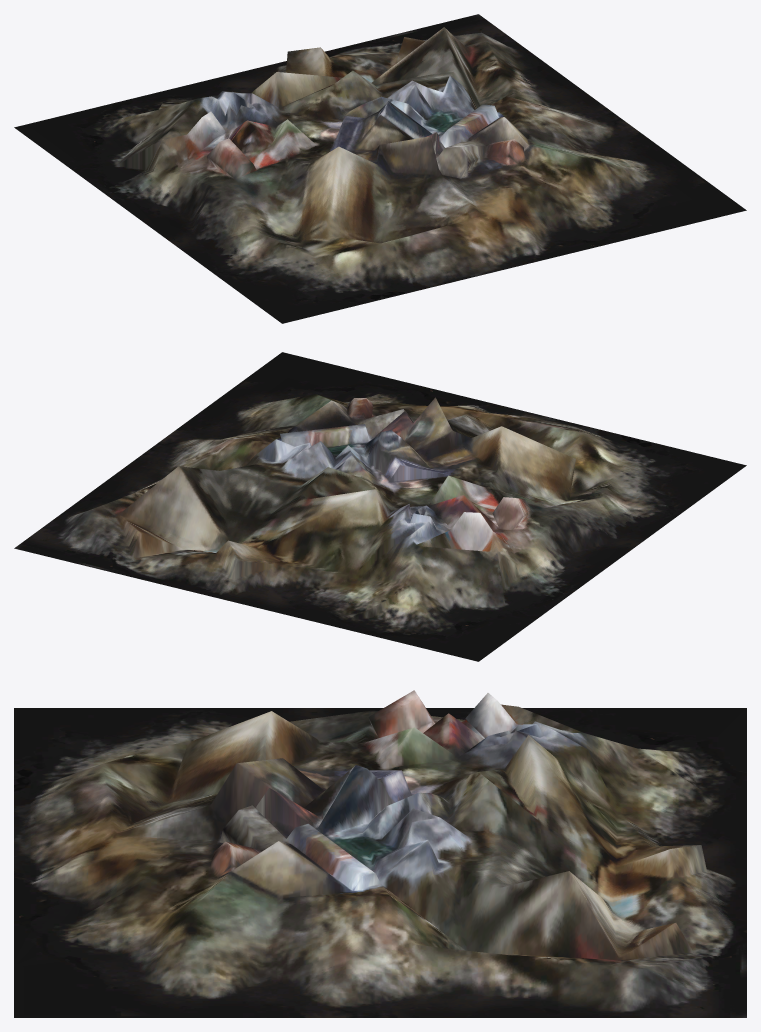
The picture shows the model from 3 angles, top to bottom: view 1: azimuth 30°, elevation 25°; view 2: azimuth 150°, elevation 25°; view 3: azimuth 270°, elevation 25°; orthographic projection. The views are drawn at different scales.
Parts seen in each view (by area): view 1: garbage heep_obj.001; view 2: garbage heep_obj.001; view 3: garbage heep_obj.001.
Part boxes in pixels (x1,y1,x2,y2): garbage heep_obj.001: (14, 14, 746, 323); garbage heep_obj.001: (14, 352, 746, 661); garbage heep_obj.001: (14, 690, 746, 1017).
Size of the model in its own units: 51.86 by 7.66 by 51.86.
1 material, 1 textured.
